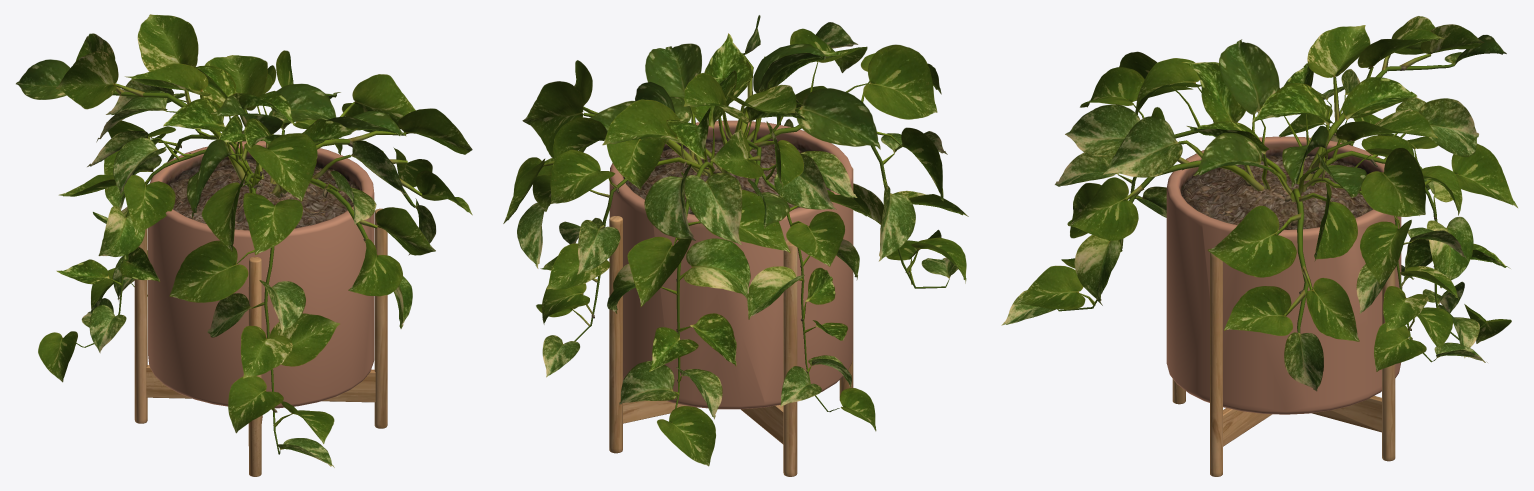
File: plant_free_pothos_potted_money_allquad.glb
3 renders of one model, left to right at view 1: azimuth 30°, elevation 25°; view 2: azimuth 150°, elevation 25°; view 3: azimuth 270°, elevation 25°, orthographic. The views are drawn at different scales.
Visible parts, largest first — view 1: POTHOS_POTHOS_Mat_0, POT_WOOD_LEGS_WOODEN_LEGS_POT_0; view 2: POTHOS_POTHOS_Mat_0, POT_WOOD_LEGS_WOODEN_LEGS_POT_0; view 3: POTHOS_POTHOS_Mat_0, POT_WOOD_LEGS_WOODEN_LEGS_POT_0.
Boxes of the visible parts, x1,y1,x2,y2 form: POTHOS_POTHOS_Mat_0: (16,14,472,467); POT_WOOD_LEGS_WOODEN_LEGS_POT_0: (134,141,387,476); POTHOS_POTHOS_Mat_0: (503,15,968,466); POT_WOOD_LEGS_WOODEN_LEGS_POT_0: (609,120,853,476); POTHOS_POTHOS_Mat_0: (1001,16,1517,391); POT_WOOD_LEGS_WOODEN_LEGS_POT_0: (1166,136,1401,476).
Bounding box in the file's own units: 0.8266 × 0.7916 × 0.9741.
Materials: 2 (2 with a texture image).
